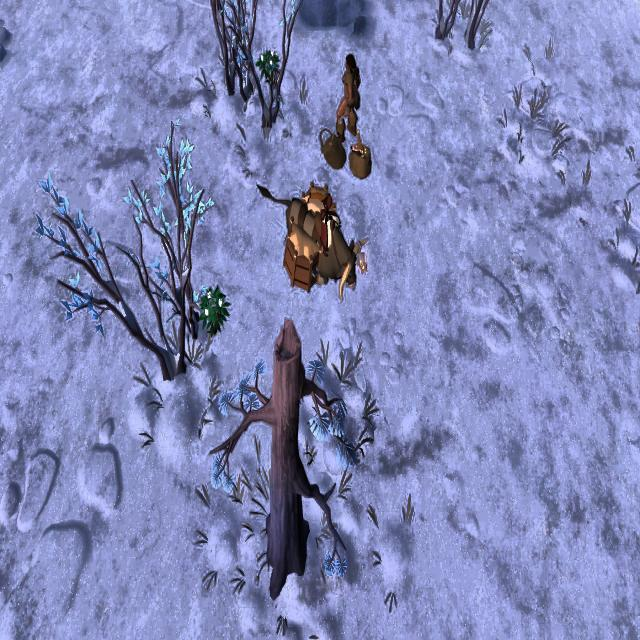enemy_factionKeeper: (338, 52, 362, 142)
fiber_t3: (195, 277, 231, 338), (255, 43, 281, 85)
